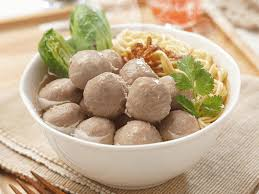bakso: (36, 48, 201, 164)
